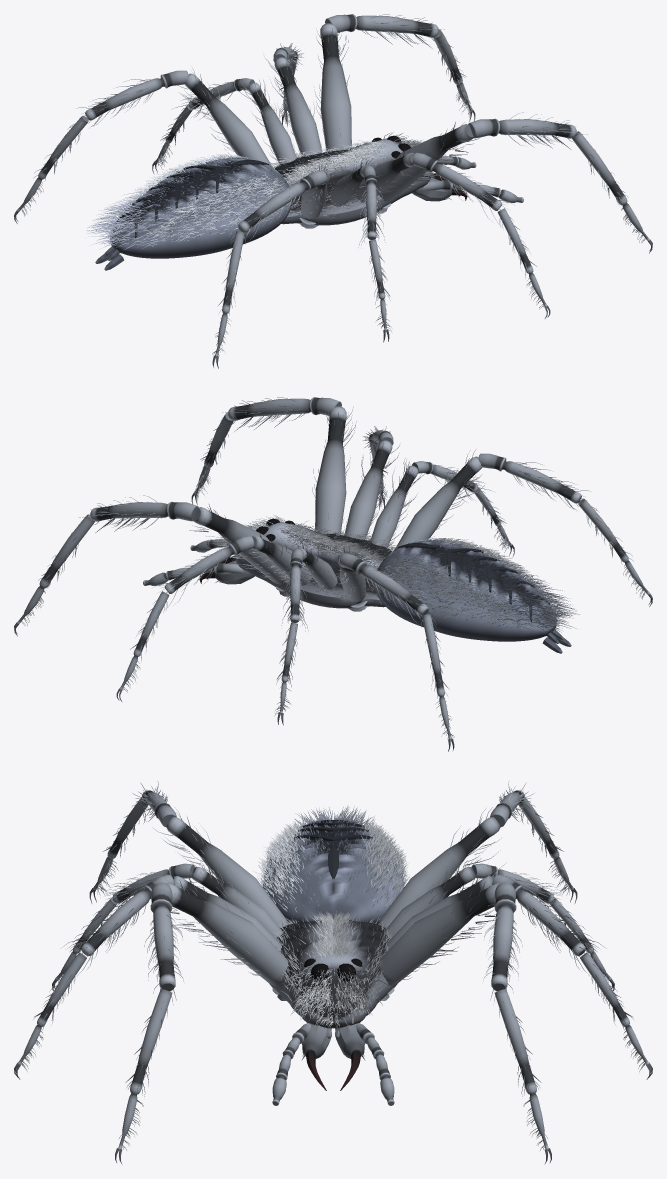
Rendered from spidi.glb.
3 views of the same model, one above another, from view 1: azimuth 30°, elevation 25°; view 2: azimuth 150°, elevation 25°; view 3: azimuth 270°, elevation 25° (orthographic). The views are drawn at different scales.
Visible parts, largest first — view 1: abdomen, fur.001, prosoma, femur_L1, fur, femur_L4, femur_R1, femur_L2, tibia_R1, tibia_L1, tibia_L4, femur_L3 (+15 smaller); view 2: abdomen, fur.001, prosoma, femur_R1, fur, femur_R4, femur_R2, femur_L1, tibia_L1, tibia_R1, tibia_R4, tibia_L4 (+15 smaller); view 3: abdomen, prosoma, fur.001, fur, femur_R1, femur_L1, femur_R4, femur_L4, tibia_L1, tibia_R1, tarsus_L1, tarsus_R1 (+21 smaller).
Boxes of the visible parts, x1,y1,x2,y2 form: abdomen: (110, 157, 291, 258); fur.001: (86, 154, 289, 249); prosoma: (275, 139, 431, 228); femur_L1: (314, 23, 351, 151); fur: (271, 132, 449, 217); femur_L4: (177, 68, 272, 166); femur_R1: (376, 122, 479, 213); femur_L2: (264, 56, 322, 156); tibia_R1: (468, 112, 588, 149); tibia_L1: (325, 14, 444, 48); tibia_L4: (77, 70, 188, 126); femur_L3: (235, 80, 298, 166); abdomen: (375, 540, 556, 641); fur.001: (376, 536, 580, 632); prosoma: (235, 522, 391, 611); femur_R1: (312, 406, 356, 534); fur: (217, 515, 396, 603); femur_R4: (394, 450, 484, 550); femur_R2: (343, 429, 399, 539); femur_L1: (189, 504, 290, 596); tibia_L1: (78, 495, 198, 532); tibia_R1: (222, 397, 341, 431); tibia_R4: (478, 453, 589, 509); tibia_L4: (340, 553, 435, 622); abdomen: (263, 821, 404, 924); prosoma: (269, 919, 397, 1028); fur.001: (254, 806, 409, 917); fur: (272, 911, 393, 1028); femur_R1: (150, 879, 288, 1000); femur_L1: (379, 881, 504, 1000); femur_R4: (152, 807, 288, 927); femur_L4: (378, 807, 501, 927); tibia_L1: (483, 882, 522, 1004); tibia_R1: (144, 882, 183, 1004); tarsus_L1: (494, 989, 551, 1164); tarsus_R1: (115, 989, 172, 1164).
Bounding box in the file's own units: 5.26 × 1.65 × 5.07.
